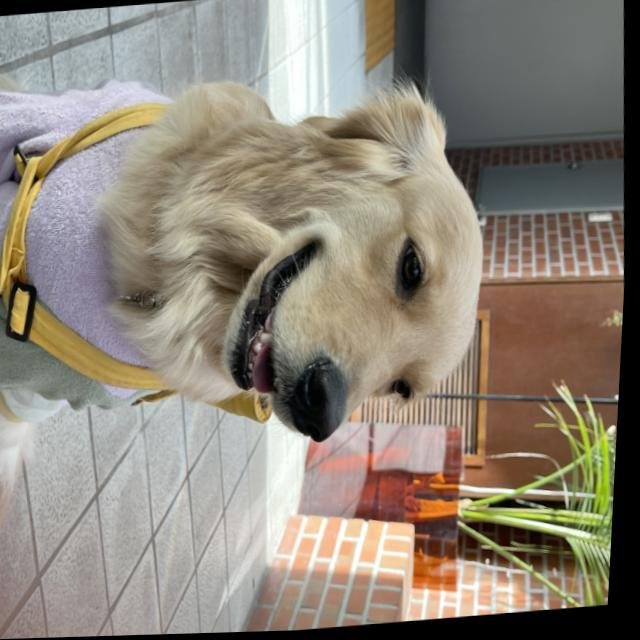dog-golden_retriever: (198, 78, 503, 452)
